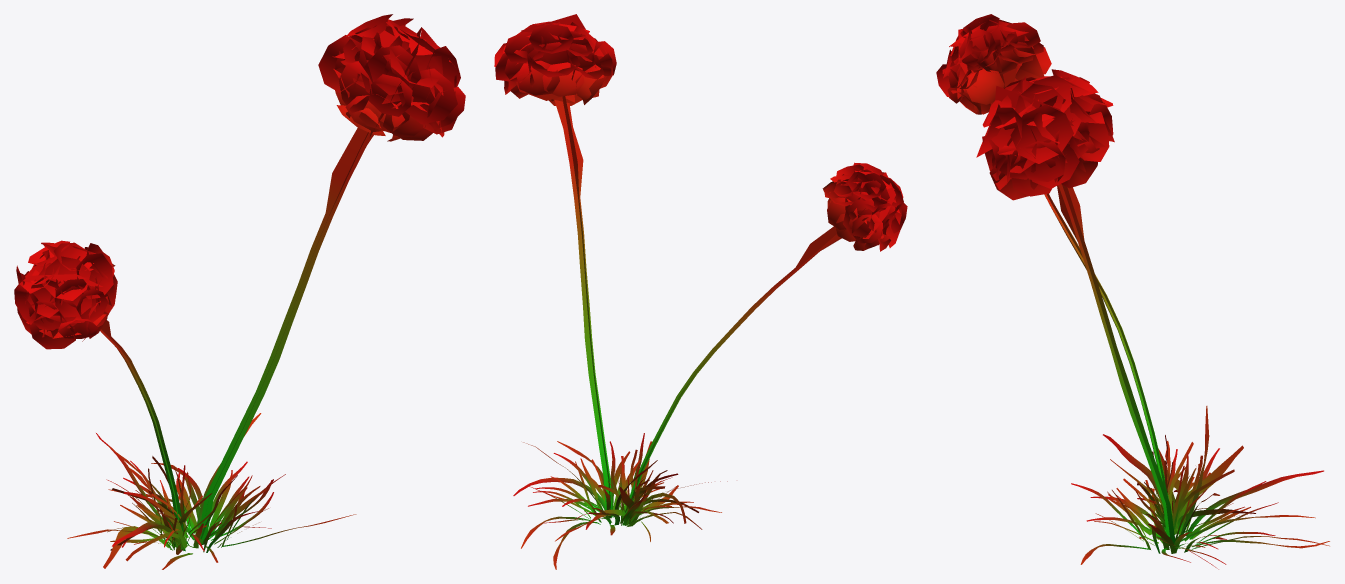
The model's file is Var9_LOD0.fbx.
The picture shows the model from 3 angles, left to right: view 1: azimuth 30°, elevation 25°; view 2: azimuth 150°, elevation 25°; view 3: azimuth 270°, elevation 25°; orthographic projection. The views are drawn at different scales.
Visible parts, largest first — view 1: _y9fv_Var9_LOD0; view 2: _y9fv_Var9_LOD0; view 3: _y9fv_Var9_LOD0.
Part boxes in pixels (x1,y1,x2,y2): _y9fv_Var9_LOD0: (14,14,465,569); _y9fv_Var9_LOD0: (494,14,907,569); _y9fv_Var9_LOD0: (936,14,1329,569).
Size of the model in its own units: 12.35 by 13.7 by 9.12.
